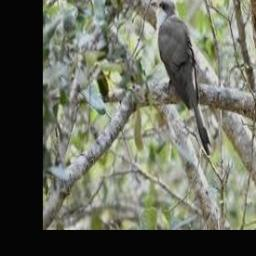Cuckoo: (152, 0, 210, 155)
